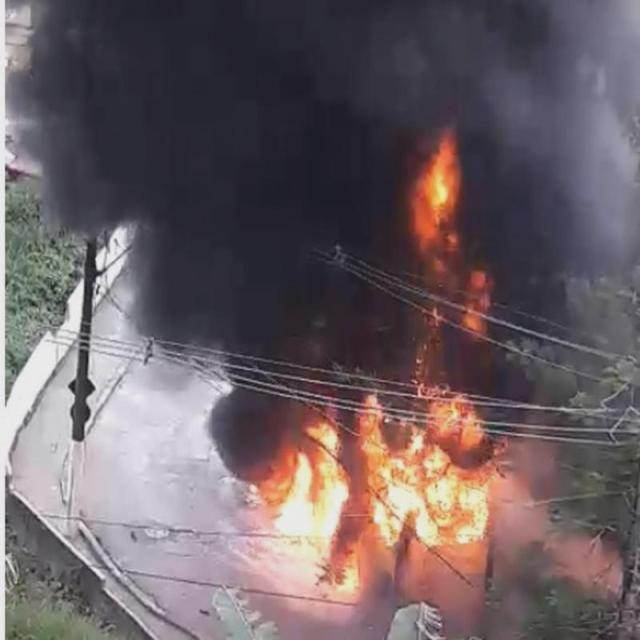fire: (279, 404, 496, 574)
smoke: (44, 2, 403, 218), (461, 5, 640, 274)
